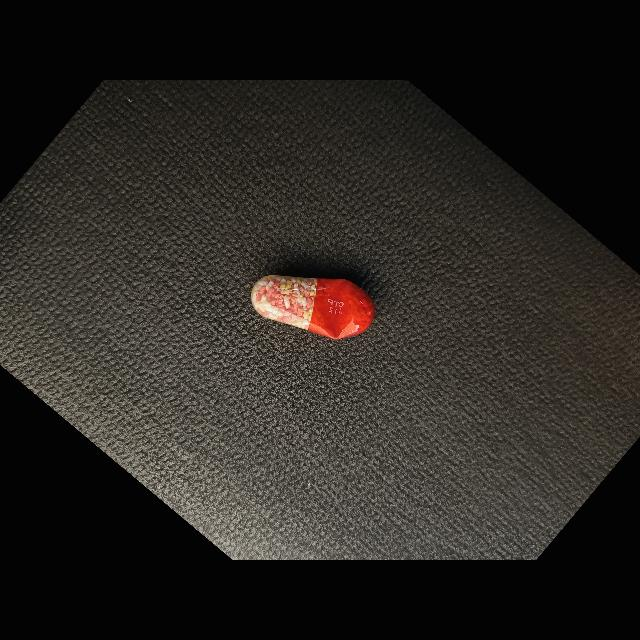Defective Capsule: (251, 275, 375, 340)
